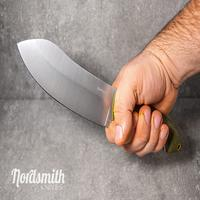knife: (11, 31, 185, 157)
